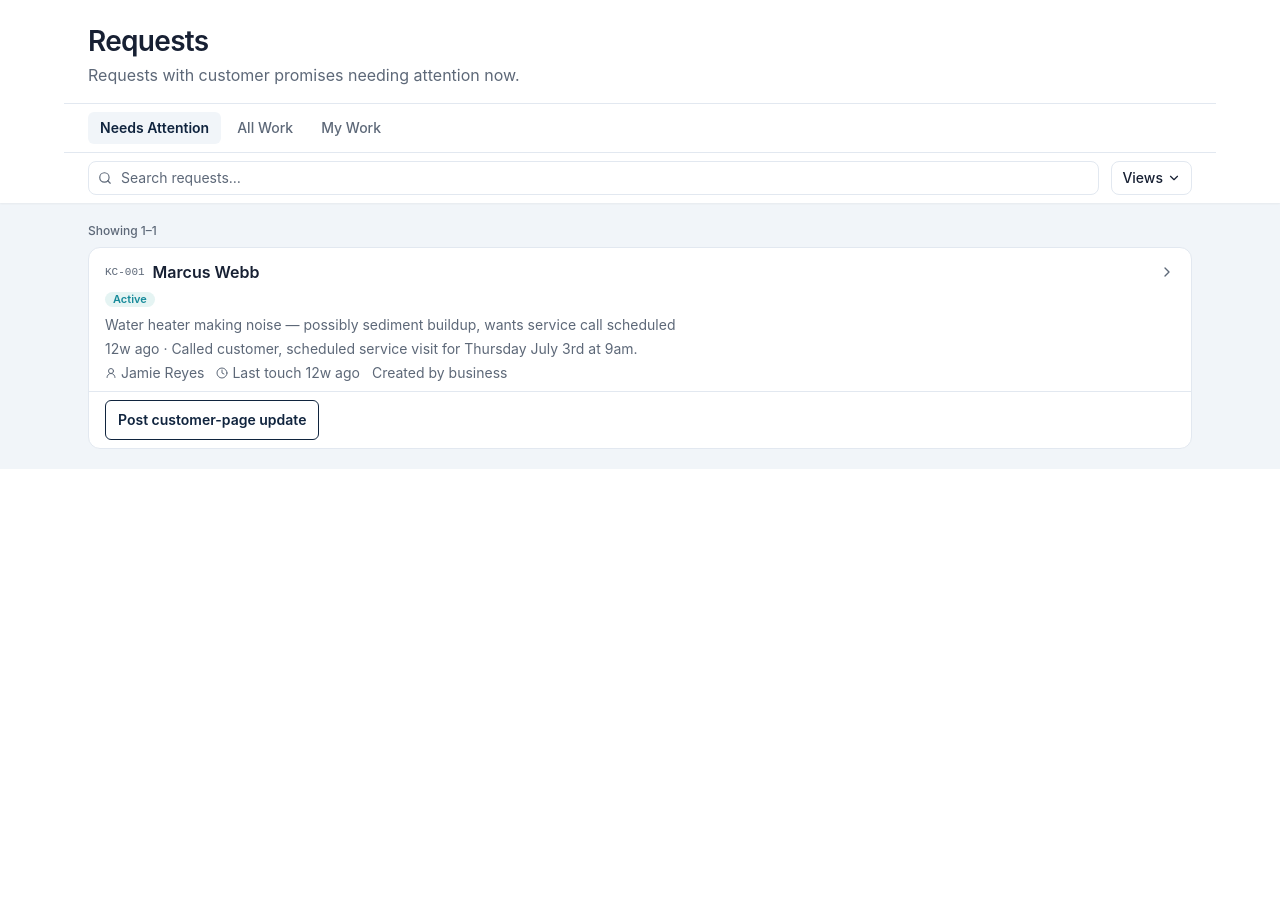
Test: Requests — GAP-046 filter-state visibility and recovery › history wording includes search/scope/date but never status, and its recovery preserves scope/date
Step 1. Click the button "Views" → (1152, 178), box x1=1111 y1=161 x2=1192 y2=195
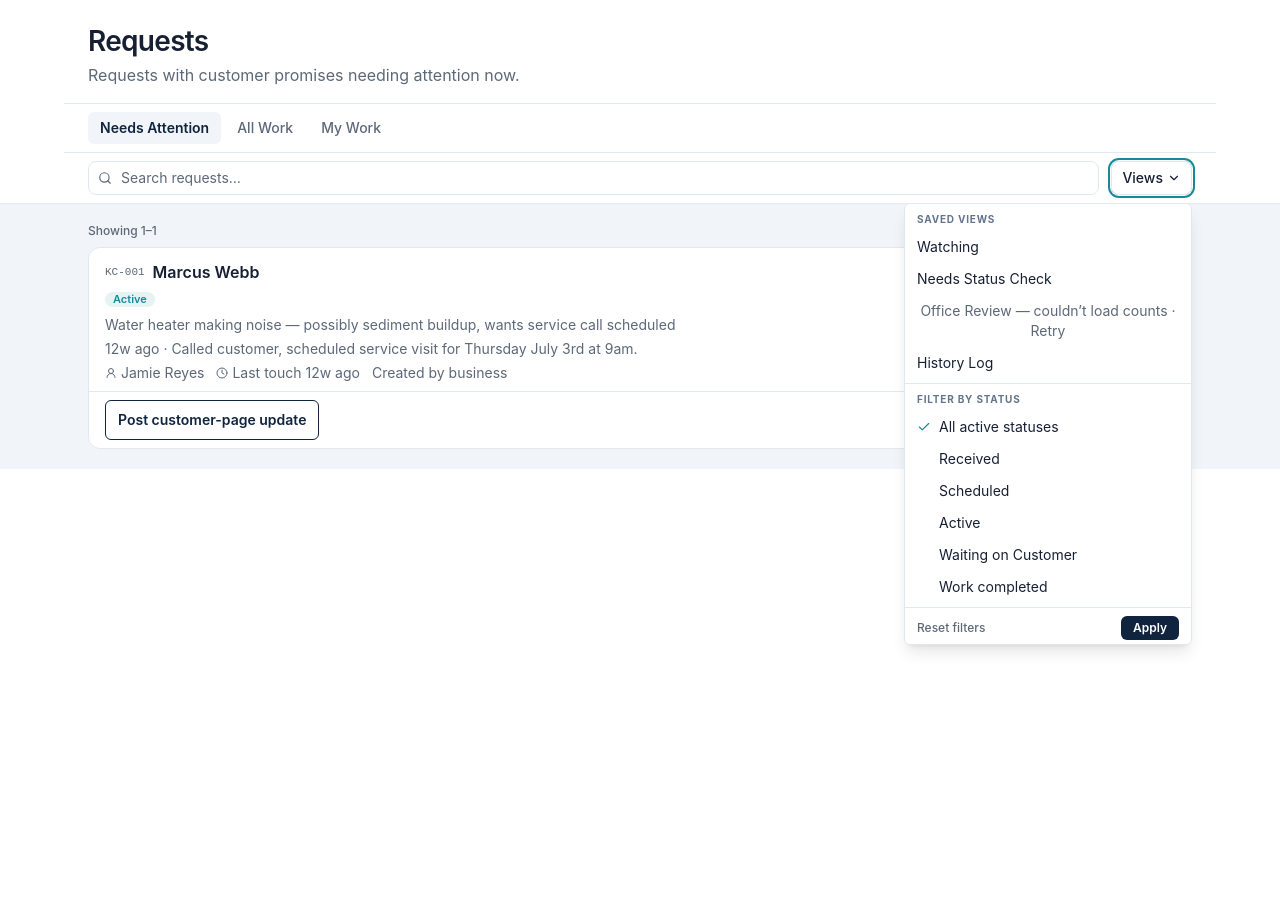
Step 2. Click the button "History Log" → (955, 362), box x1=905 y1=347 x2=1191 y2=379
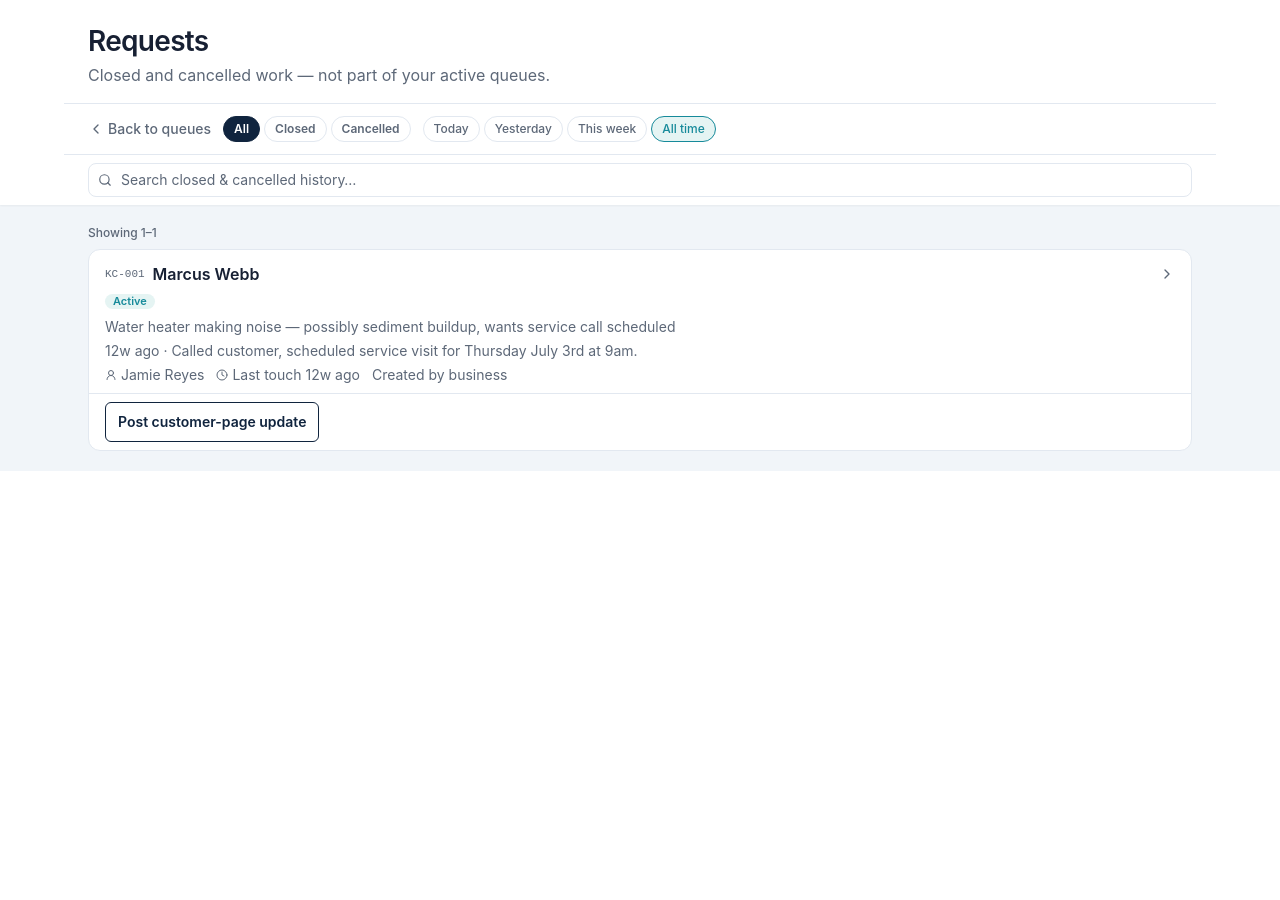
Expected: the button "Views" is gone
Step 3. Click the button "Closed" → (295, 129), box x1=264 y1=116 x2=327 y2=142
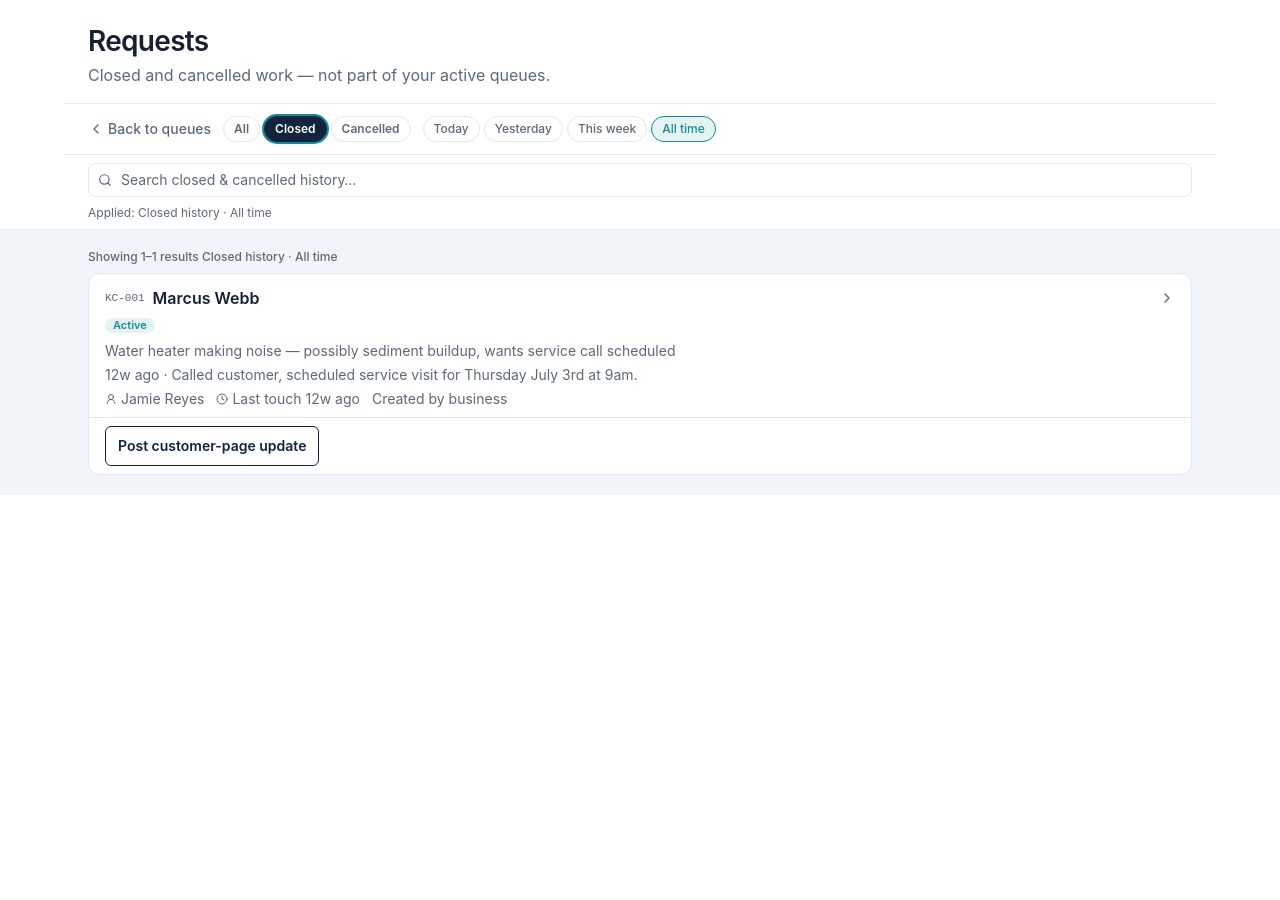
Expected: the text "Applied: Closed history · All time" is shown, x1=88 y1=205 x2=272 y2=220
Step 4. Type "nomatch" into the field named "Search requests" → (640, 180), box x1=88 y1=163 x2=1192 y2=197
Then press Enter
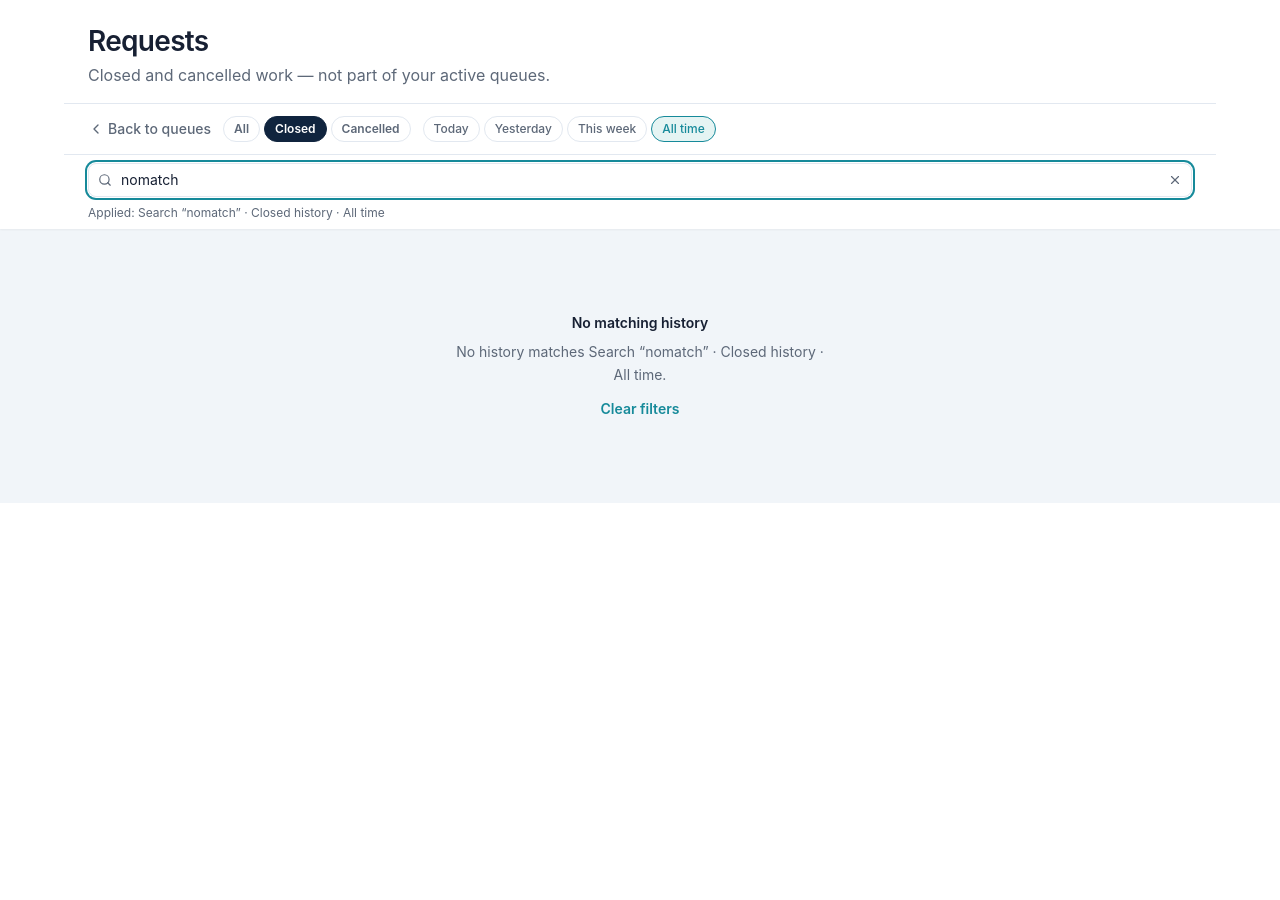
Step 5. Click the button "Clear filters" → (640, 408), box x1=600 y1=398 x2=679 y2=418
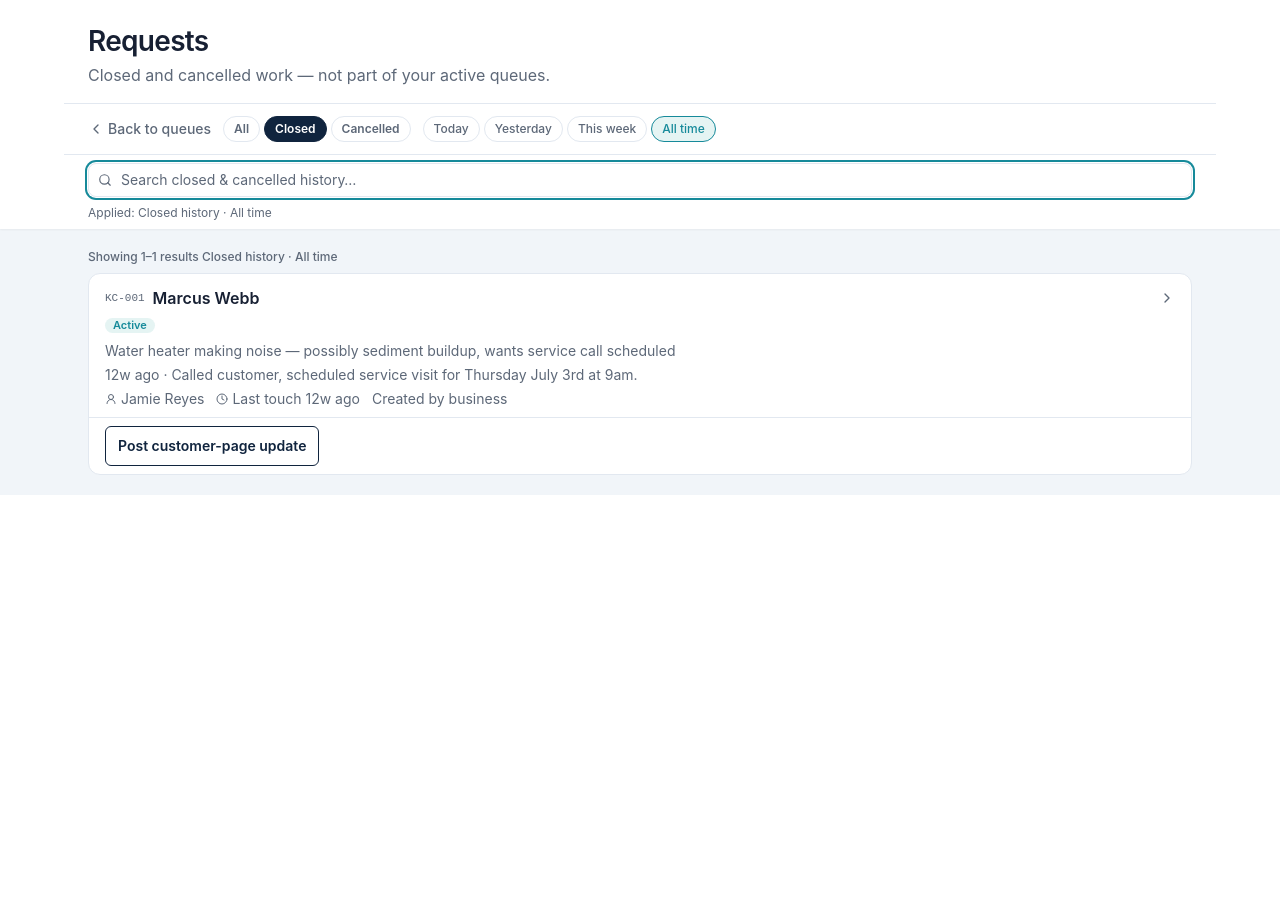
Expected: the text "Applied: Closed history · All time" is shown, x1=88 y1=205 x2=272 y2=220
